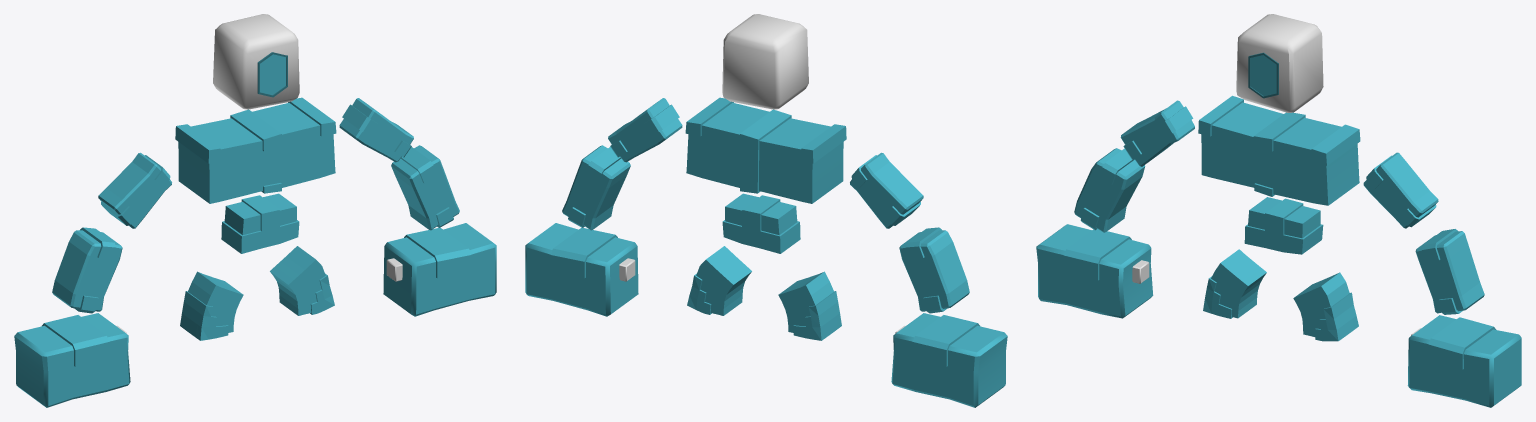
The model's file is stone_golem.fbx.
3 views of the same model, side by side, from view 1: azimuth 30°, elevation 25°; view 2: azimuth 150°, elevation 25°; view 3: azimuth 330°, elevation 25° (orthographic).
Parts seen in each view (by area): view 1: torso, fist, fist_2, Cube_3, Cube_2_2, hips, Cube_4, Cube_2, foot_R, foot_L, Cube_2_3, Cube; view 2: torso, fist, fist_2, Cube_3, Cube_2_2, hips, Cube_4, Cube_2, foot_R, foot_L, Cube_2_3; view 3: torso, fist, fist_2, Cube_3, Cube_4, Cube_2_2, hips, Cube_2_3, foot_L, foot_R, Cube_2, Cube.
Boxes of the visible parts, left/top/right/bottom form: torso: left=175, top=97, right=336, bottom=203; fist: left=14, top=313, right=130, bottom=407; fist_2: left=383, top=223, right=496, bottom=316; Cube_3: left=213, top=14, right=299, bottom=109; Cube_2_2: left=52, top=227, right=122, bottom=313; hips: left=221, top=193, right=299, bottom=253; Cube_4: left=391, top=145, right=459, bottom=230; Cube_2: left=98, top=152, right=171, bottom=228; foot_R: left=180, top=271, right=243, bottom=340; foot_L: left=270, top=246, right=334, bottom=315; Cube_2_3: left=339, top=98, right=413, bottom=162; Cube: left=257, top=52, right=287, bottom=97; torso: left=685, top=97, right=846, bottom=203; fist: left=891, top=313, right=1007, bottom=407; fist_2: left=525, top=223, right=638, bottom=316; Cube_3: left=722, top=14, right=808, bottom=109; Cube_2_2: left=899, top=227, right=969, bottom=313; hips: left=722, top=193, right=800, bottom=253; Cube_4: left=562, top=145, right=630, bottom=230; Cube_2: left=850, top=152, right=923, bottom=228; foot_R: left=778, top=271, right=841, bottom=340; foot_L: left=687, top=246, right=751, bottom=315; Cube_2_3: left=608, top=98, right=682, bottom=162; torso: left=1198, top=95, right=1360, bottom=205; fist: left=1036, top=224, right=1153, bottom=318; fist_2: left=1407, top=315, right=1521, bottom=407; Cube_3: left=1236, top=14, right=1323, bottom=112; Cube_4: left=1415, top=229, right=1484, bottom=314; Cube_2_2: left=1074, top=148, right=1145, bottom=232; hips: left=1244, top=197, right=1323, bottom=254; Cube_2_3: left=1363, top=152, right=1438, bottom=228; foot_L: left=1293, top=272, right=1358, bottom=341; foot_R: left=1203, top=249, right=1266, bottom=318; Cube_2: left=1120, top=100, right=1194, bottom=166; Cube: left=1248, top=52, right=1278, bottom=98.
Size of the model in its own units: 467 by 311 by 59.53.
